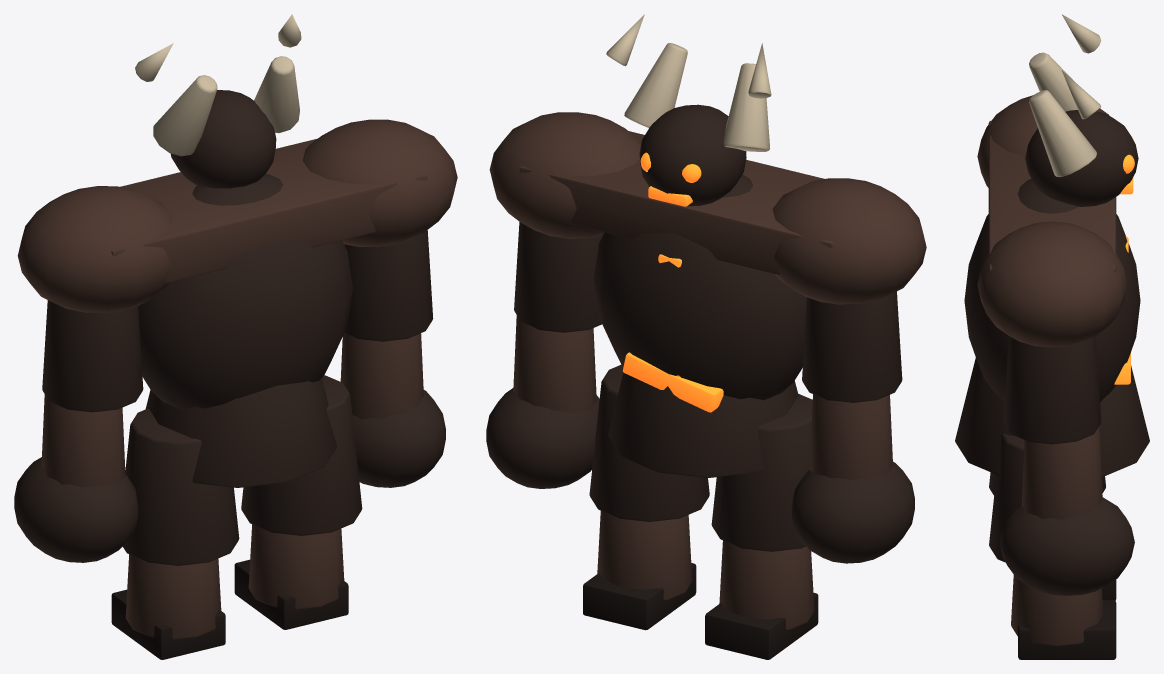
The model's file is demon.glb.
3 views of the same model, side by side, from view 1: azimuth 30°, elevation 25°; view 2: azimuth 150°, elevation 25°; view 3: azimuth 270°, elevation 25° (orthographic). The views are drawn at different scales.
Parts seen in each view (by area): view 1: Demon; view 2: Demon; view 3: Demon.
Boxes of the visible parts, left/top/right/bottom form: Demon: left=14, top=14, right=457, bottom=659; Demon: left=486, top=14, right=926, bottom=659; Demon: left=955, top=14, right=1149, bottom=659.
Bounding box in the file's own units: 1.92 × 2.58 × 0.7947.
